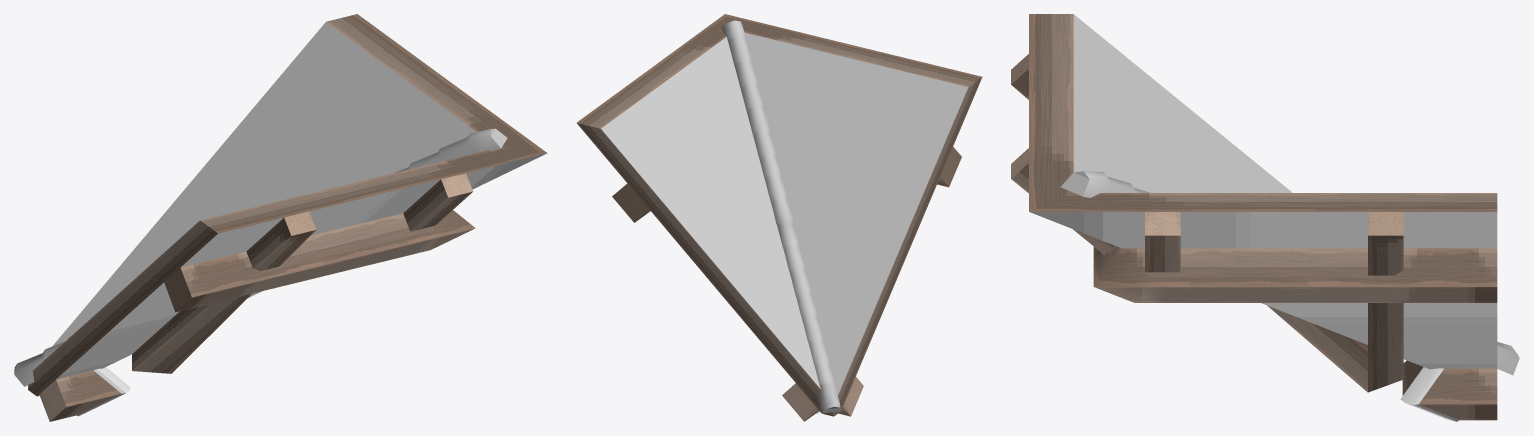
File: SM_HouseRoof_Angle_02.fbx
3 renders of one model, left to right at view 1: azimuth 30°, elevation 25°; view 2: azimuth 150°, elevation 25°; view 3: azimuth 270°, elevation 25°, orthographic. The views are drawn at different scales.
Visible parts, largest first — view 1: SM_HouseRoof_Angle_02_LOD0; view 2: SM_HouseRoof_Angle_02_LOD0; view 3: SM_HouseRoof_Angle_02_LOD0.
Boxes of the visible parts, x1,y1,x2,y2 form: SM_HouseRoof_Angle_02_LOD0: (14, 14, 547, 421); SM_HouseRoof_Angle_02_LOD0: (576, 14, 982, 421); SM_HouseRoof_Angle_02_LOD0: (1011, 14, 1519, 421).
Size of what is drawn, in the model's own units: 5.63 by 5.02 by 5.7.
